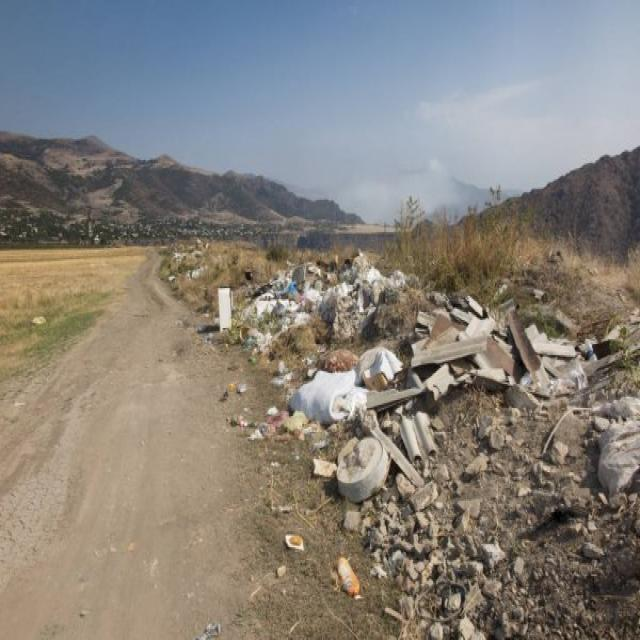garbage: (229, 238, 636, 592)
